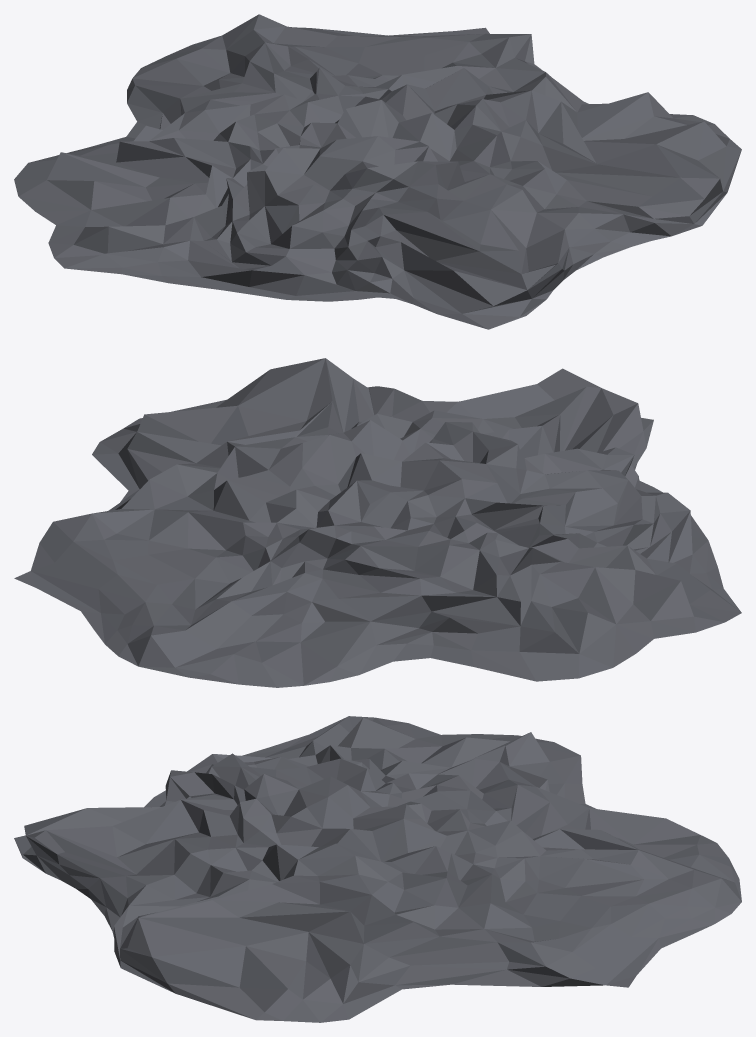
File: cigarette ash.fbx
The picture shows the model from 3 angles, top to bottom: view 1: azimuth 30°, elevation 25°; view 2: azimuth 150°, elevation 25°; view 3: azimuth 270°, elevation 25°; orthographic projection. The views are drawn at different scales.
Visible parts, largest first — view 1: cigarette ash; view 2: cigarette ash; view 3: cigarette ash.
Boxes of the visible parts, x1,y1,x2,y2 form: cigarette ash: [14, 14, 741, 329]; cigarette ash: [14, 358, 741, 687]; cigarette ash: [14, 716, 741, 1022].
Size of the model in its own units: 0.2888 by 0.0307 by 0.2899.
